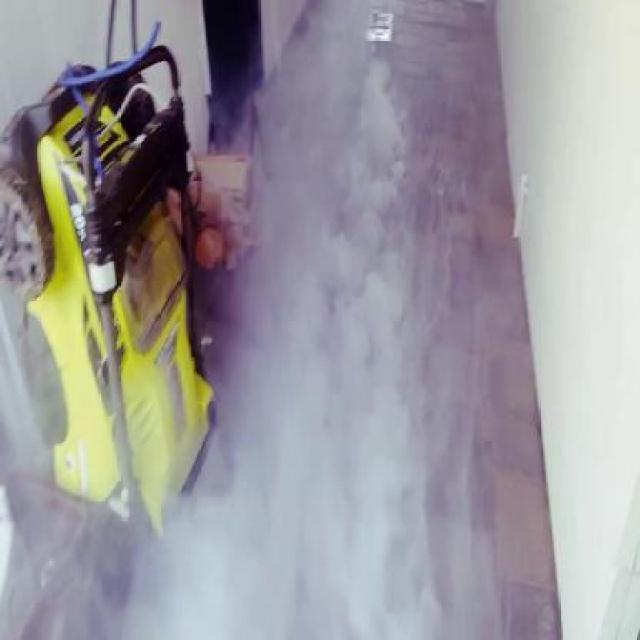smoke: (241, 96, 496, 629), (278, 8, 444, 636), (132, 453, 502, 636)
